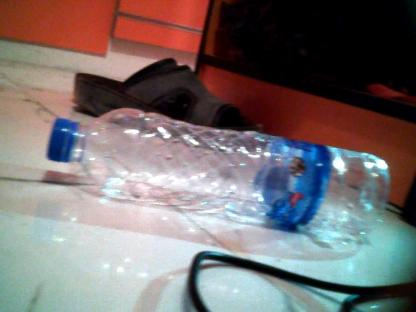Plastic Bottle: (44, 106, 392, 252)
